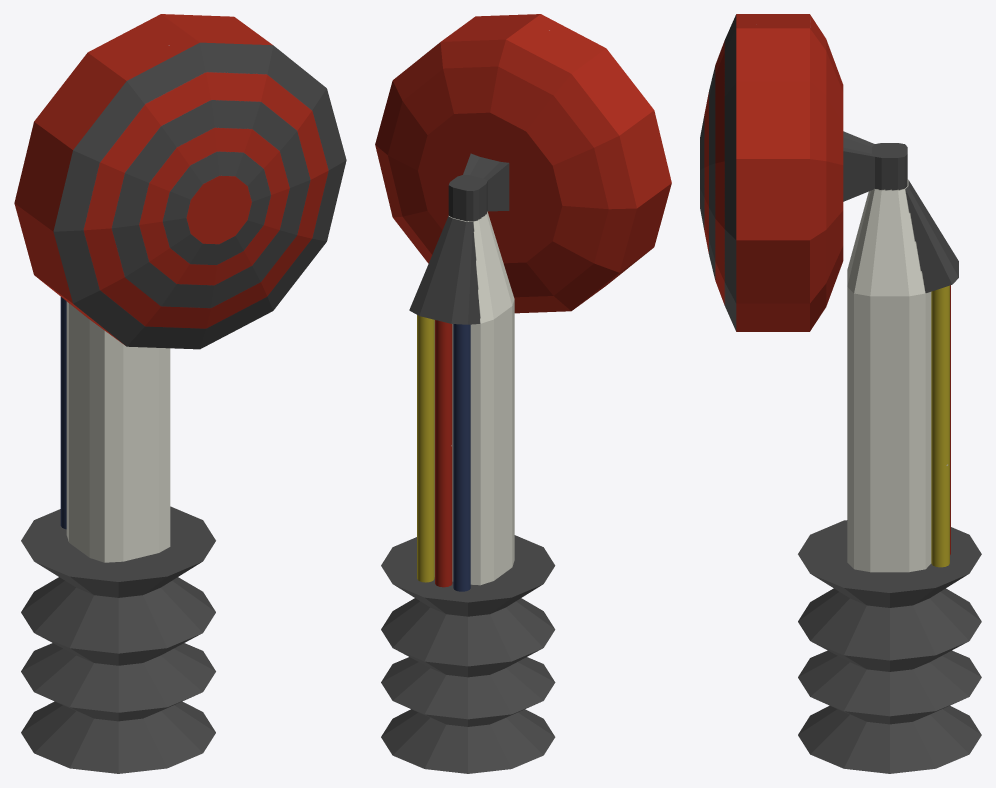
Rendered from Puncher.fbx.
3 views of the same model, side by side, from view 1: azimuth 30°, elevation 25°; view 2: azimuth 150°, elevation 25°; view 3: azimuth 270°, elevation 25° (orthographic). The views are drawn at different scales.
Parts seen in each view (by area): view 1: Cylinder.001, Plane; view 2: Plane, Cylinder.001; view 3: Plane, Cylinder.001.
Part boxes in pixels (x1=…): Cylinder.001: x1=14, y1=14, x2=346, y2=349; Plane: x1=21, y1=297, x2=215, y2=773; Plane: x1=381, y1=153, x2=555, y2=773; Cylinder.001: x1=375, y1=14, x2=671, y2=313; Plane: x1=798, y1=131, x2=981, y2=773; Cylinder.001: x1=700, y1=14, x2=843, y2=331.
Size of the model in its own units: 26 by 63.53 by 22.96.
Materials: 2 (2 with a texture image).
